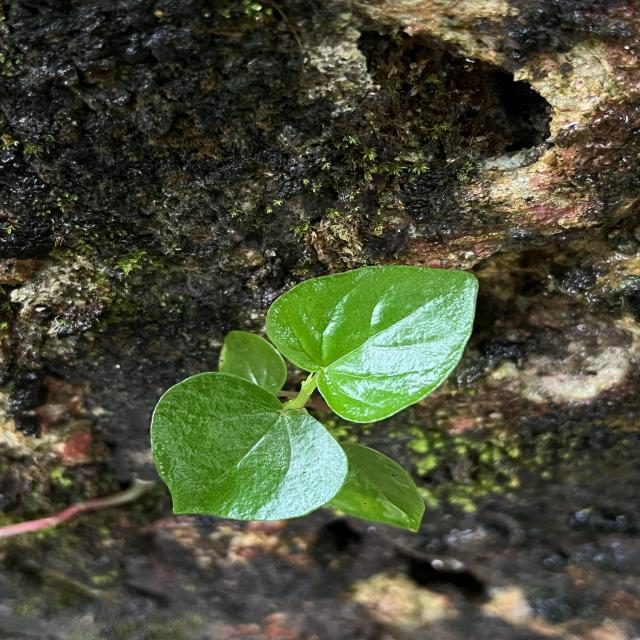Peperomia pellucida: (263, 262, 482, 427), (148, 366, 352, 525)
